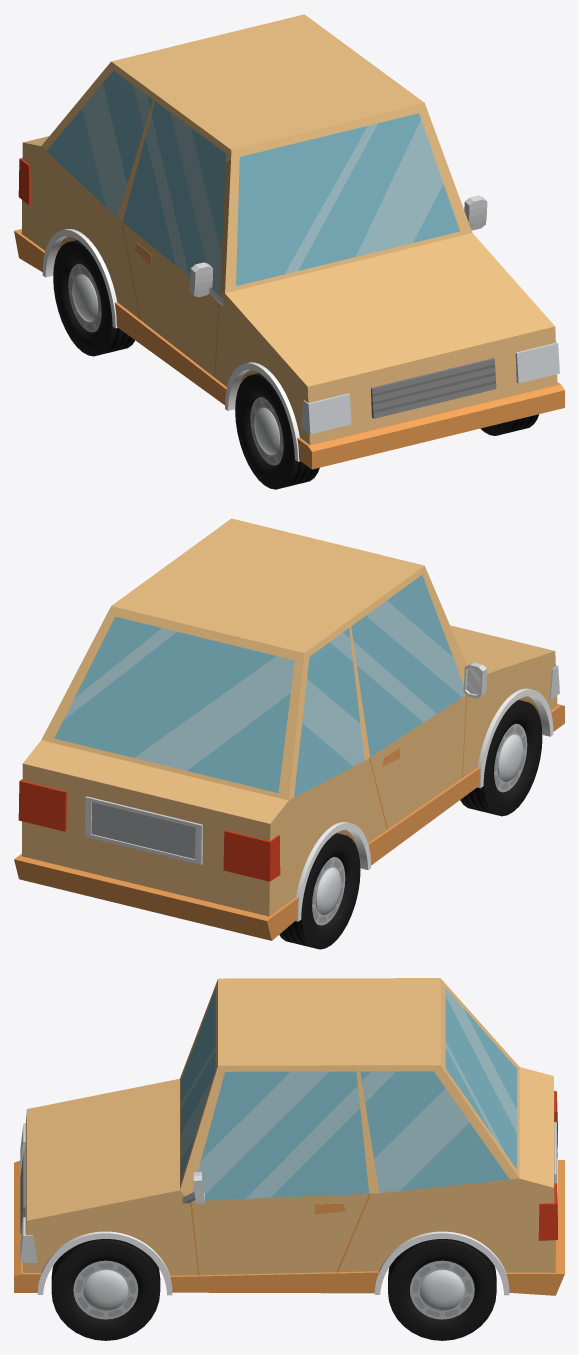
File: brown_car.glb
3 renders of one model, top to bottom at view 1: azimuth 30°, elevation 25°; view 2: azimuth 150°, elevation 25°; view 3: azimuth 270°, elevation 25°, orthographic. The views are drawn at different scales.
Parts seen in each view (by area): view 1: coupe; view 2: coupe; view 3: coupe.
Part boxes in pixels (bbox=[...]): coupe: bbox=[14, 14, 564, 489]; coupe: bbox=[14, 518, 564, 949]; coupe: bbox=[14, 978, 564, 1340].
Bounding box in the file's own units: 2.36 × 2.2 × 4.18.
